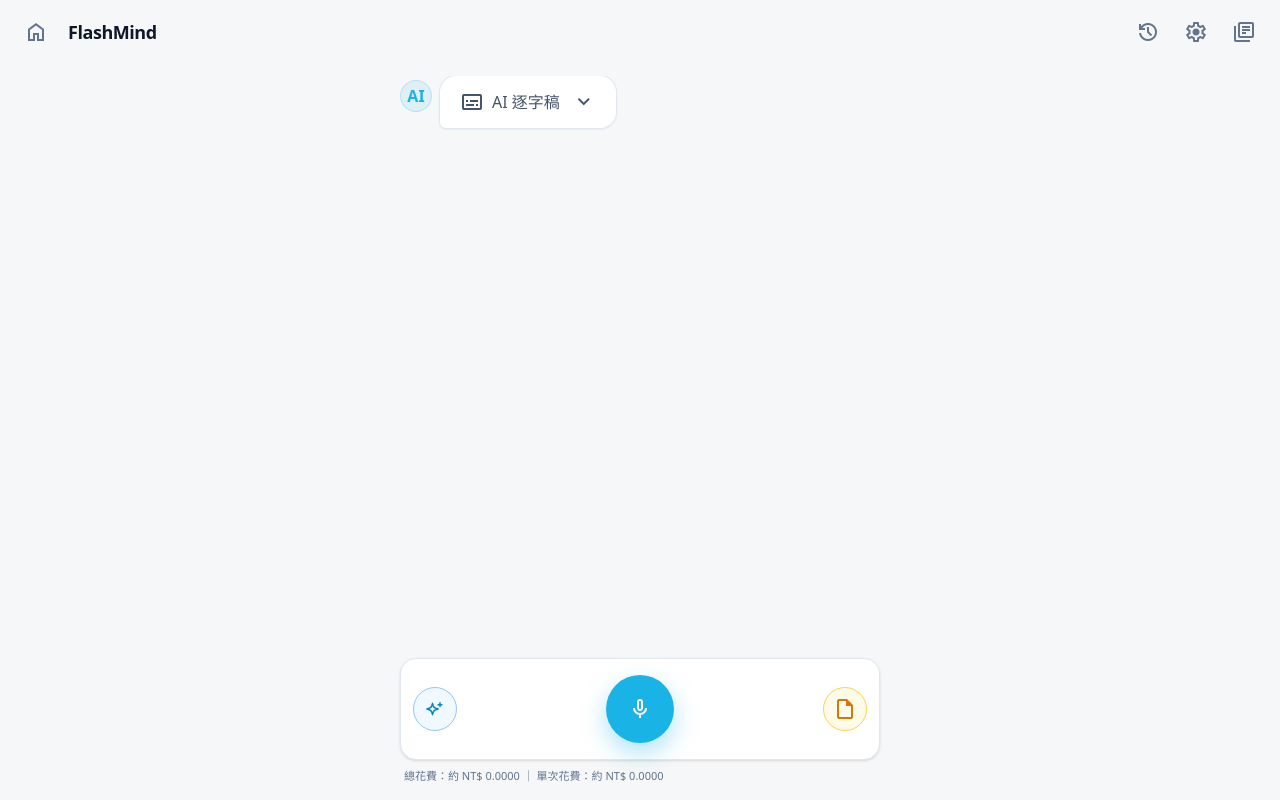
Test: speaking.component selection actions › 關閉預設顯示 AI 逐字稿時，應預設收合並可獨立展開與收起
The image size is (1280, 800).
Click the button with test id "speaking-assistant-transcript-toggle-assistant-transcript-1" at (528,102), box [456,86,600,118]
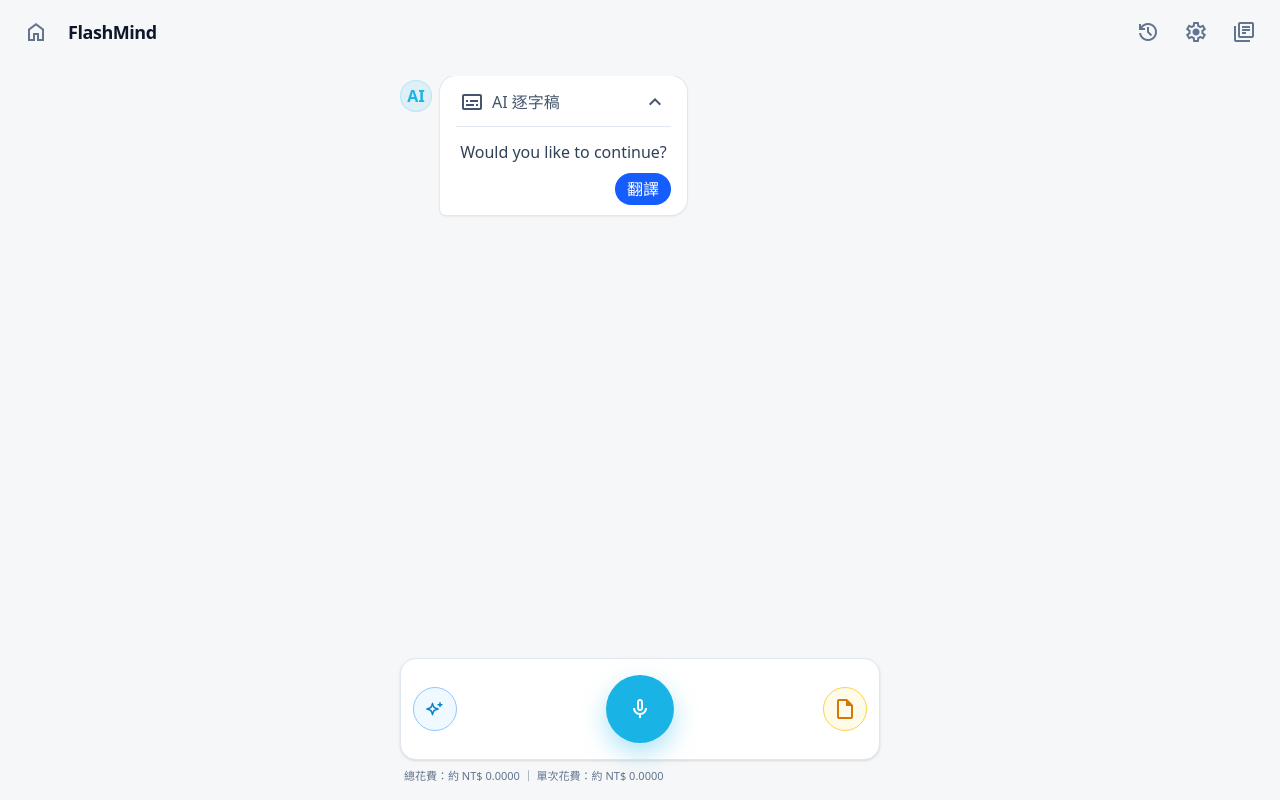
Result: the element with test id "speaking-assistant-transcript-assistant-transcript-1" shows "Would you like to continue?" at [456,141,671,163]
Click the button with test id "speaking-assistant-transcript-toggle-assistant-transcript-1" at (564,102), box [456,86,671,118]
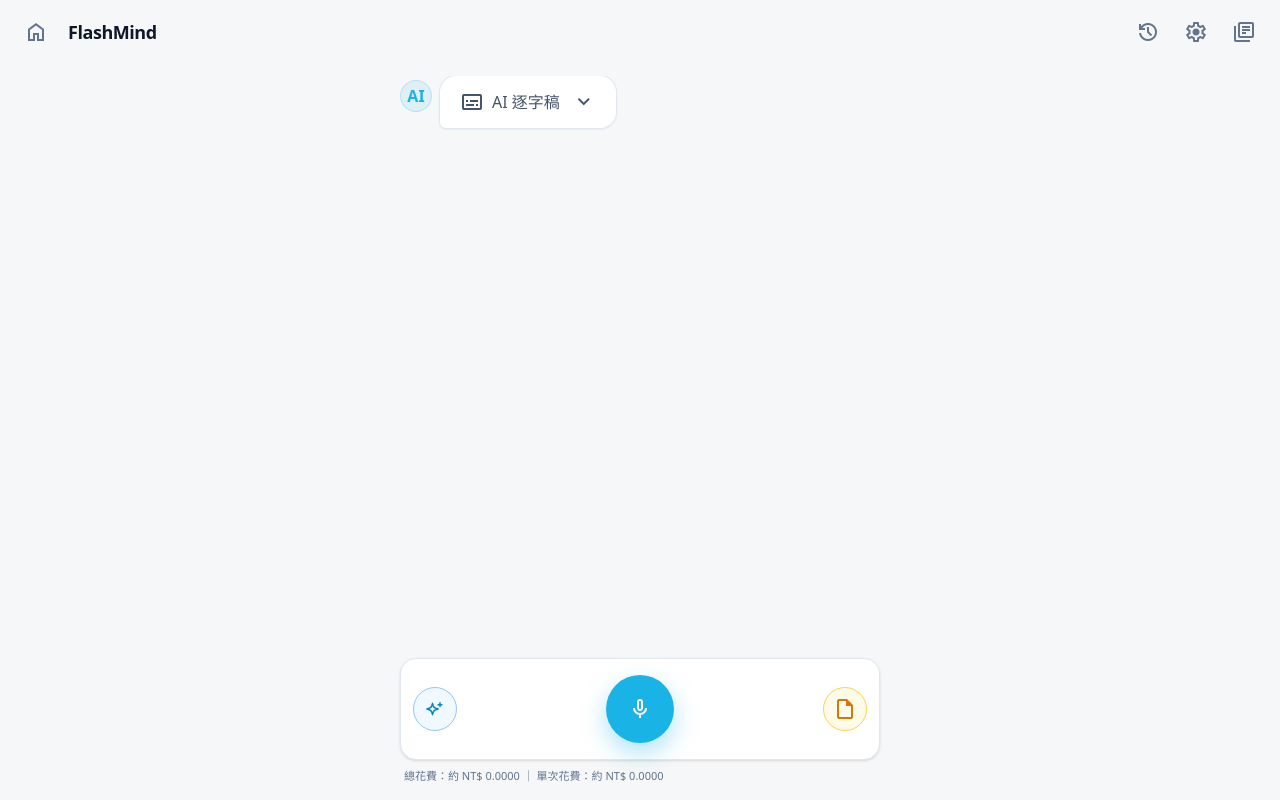
Result: the element with test id "speaking-assistant-transcript-assistant-transcript-1" is gone
